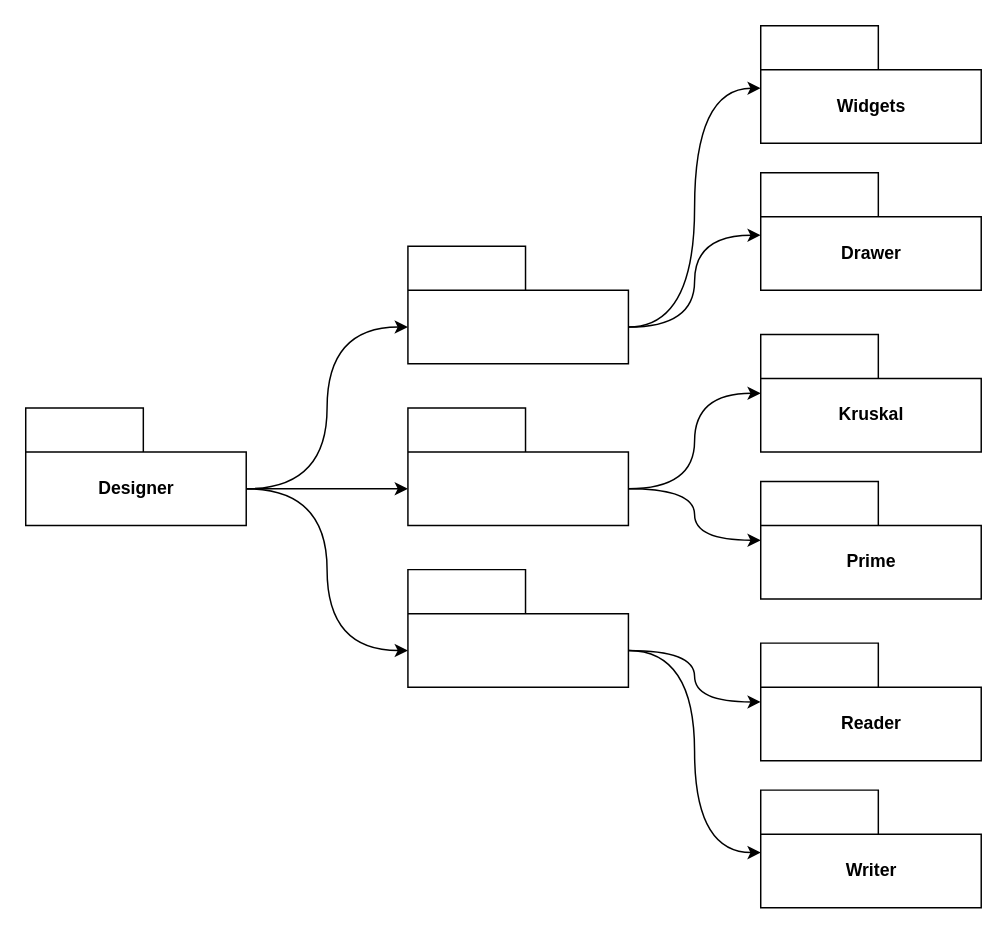
Image size: 1007x933. Some labels were removed from this diagram. Here are the shapes that lost their labels. From the top down, the centre of each, then its label:
At pixel 517 304: "UI".
At pixel 517 466: "Algorithm".
At pixel 517 627: "File".
